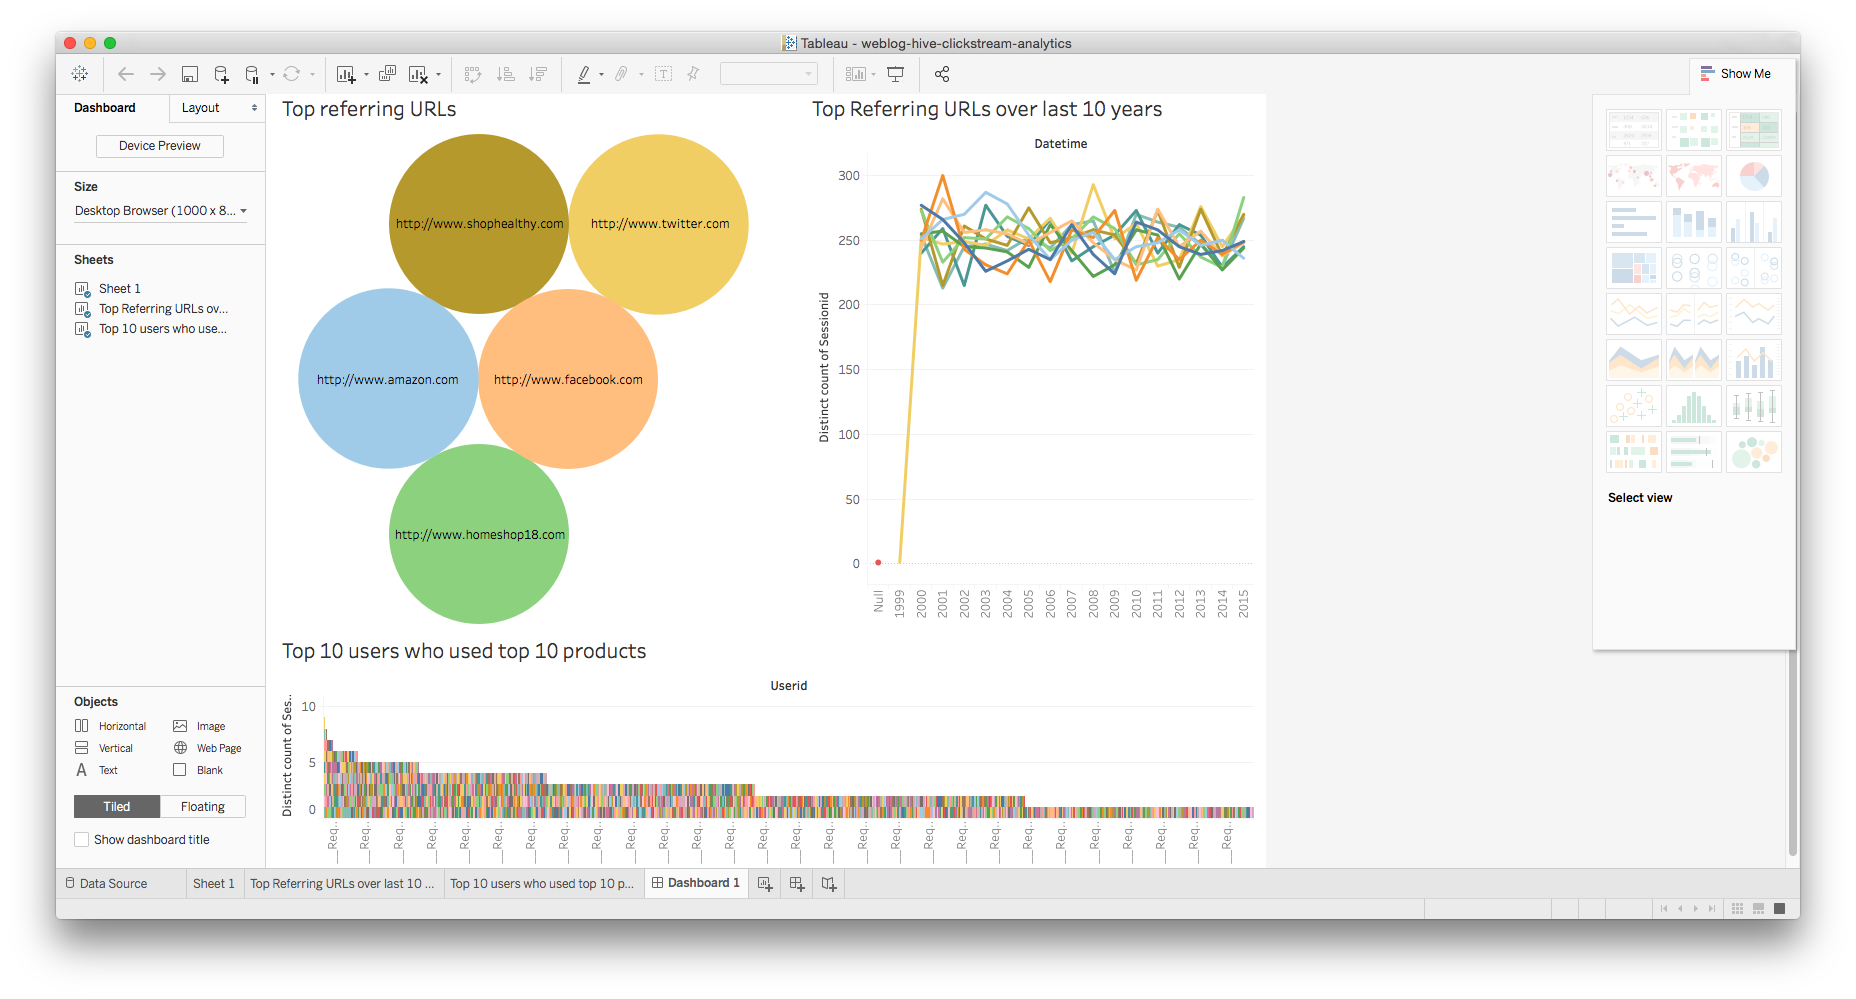

This screenshot's page, from the dashboard's own definition file:
{"tool":"tableau","page":{"name":"Dashboard 1","canvas":[1000,800],"ordinal":0},"visuals":[{"type":"worksheet","title":"Sheet 1","mark":"Circle","box":[8,8,530,542]},{"type":"worksheet","title":"Top Referring URLs over last 10 years","mark":"Automatic","rows":["sessionid"],"cols":["datetime"],"box":[538,8,454,542]},{"type":"worksheet","title":"Top 10 users who used top 10 products","mark":"Automatic","rows":["sessionid"],"cols":["userid"],"box":[8,550,984,242]}]}

Visuals, with their boxes on the page's 1000x800 design canvas (x1, y1, x2, y2). These are canvas units, not pixel positions in the 1856x999 screenshot, which may show the page scaled, cropped or inside an application window:
"Sheet 1" worksheet (Circle marks): <bbox>8, 8, 538, 550</bbox>
"Top Referring URLs over last 10 years" worksheet: <bbox>538, 8, 992, 550</bbox>
"Top 10 users who used top 10 products" worksheet: <bbox>8, 550, 992, 792</bbox>
